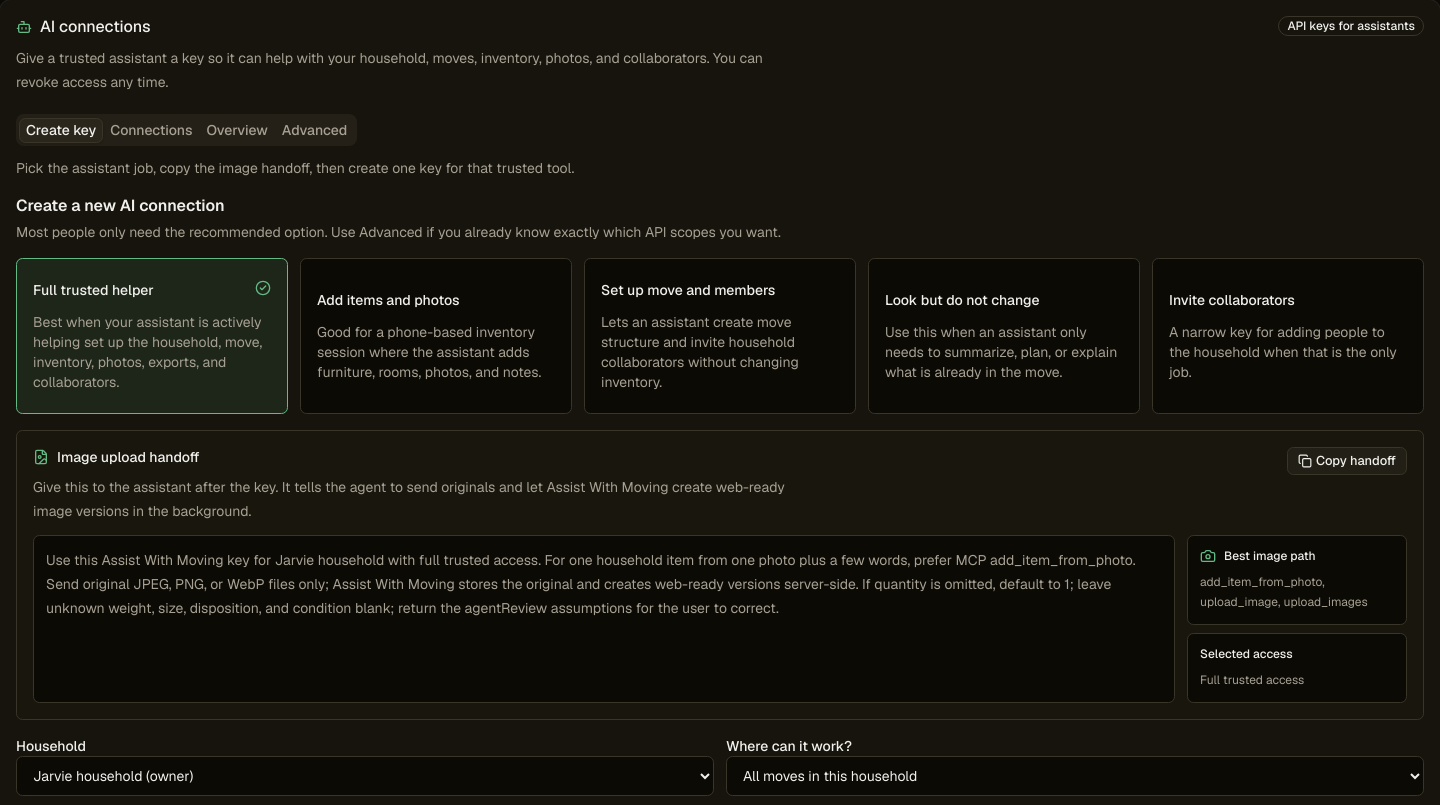
Test: ApiKeyManager task tabs › opens on key creation and separates connections, overview, and advanced settings
The width and height of the screenshot is (1440, 805).
Expected: the text "Pick the assistant job, copy the image handoff, then create one key for that trusted tool." is shown, [16,159,574,177]
Expected: the heading "Create a new AI connection" is shown, [16,195,225,216]
What coordinates should you click on to do the following:
click the tab "Connections"
I would click on:
 (151, 130)
Its box is [103,118,200,142].
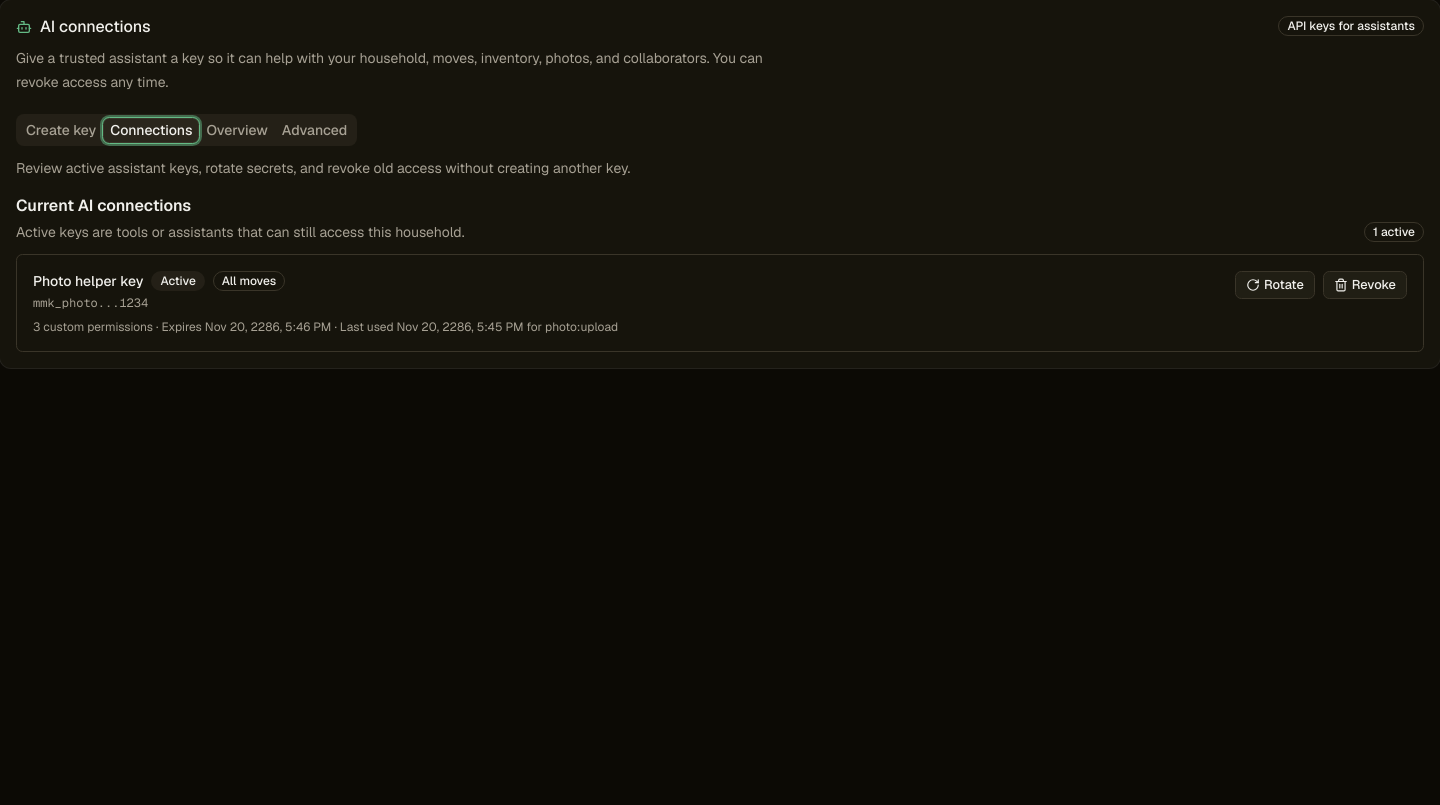
Now the text "Review active assistant keys, rotate secrets, and revoke old access without creating another key." is shown, box [16,159,630,177]
Now the heading "Current AI connections" is shown, box [16,195,191,216]
Now the text "Photo helper key" is shown, box [33,271,143,291]
What coordinates should you click on to do the following:
click the tab "Overview"
I would click on:
 (237, 130)
Its box is [200,118,275,142].
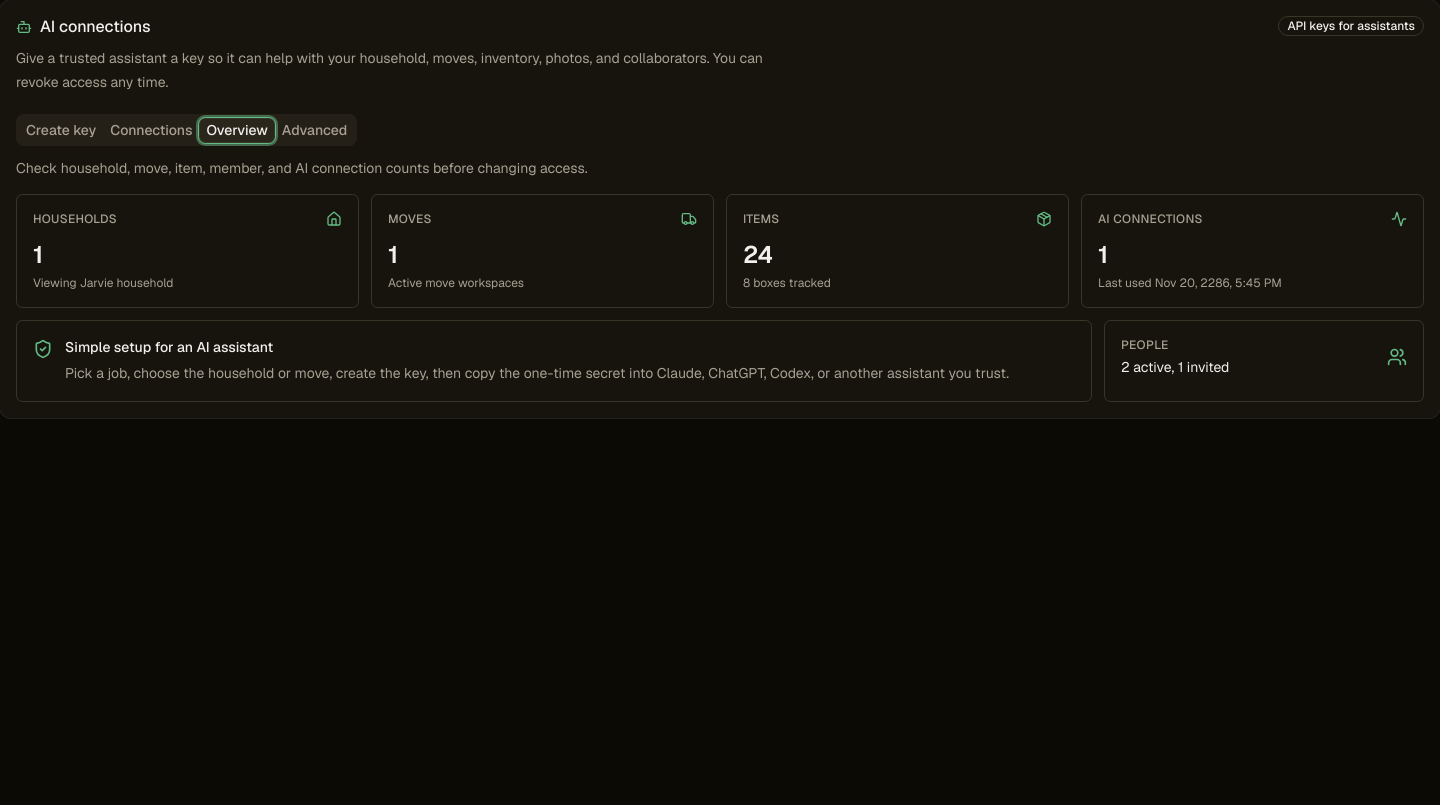
Now the text "Check household, move, item, member, and AI connection counts before changing access." is shown, box [16,159,588,177]
Now the heading "Simple setup for an AI assistant" is shown, box [65,338,273,356]
Now the text "Households" is shown, box [33,211,117,227]
What coordinates should you click on to do the following:
click the tab "Advanced"
I would click on:
 (314, 130)
Its box is [275,118,354,142].
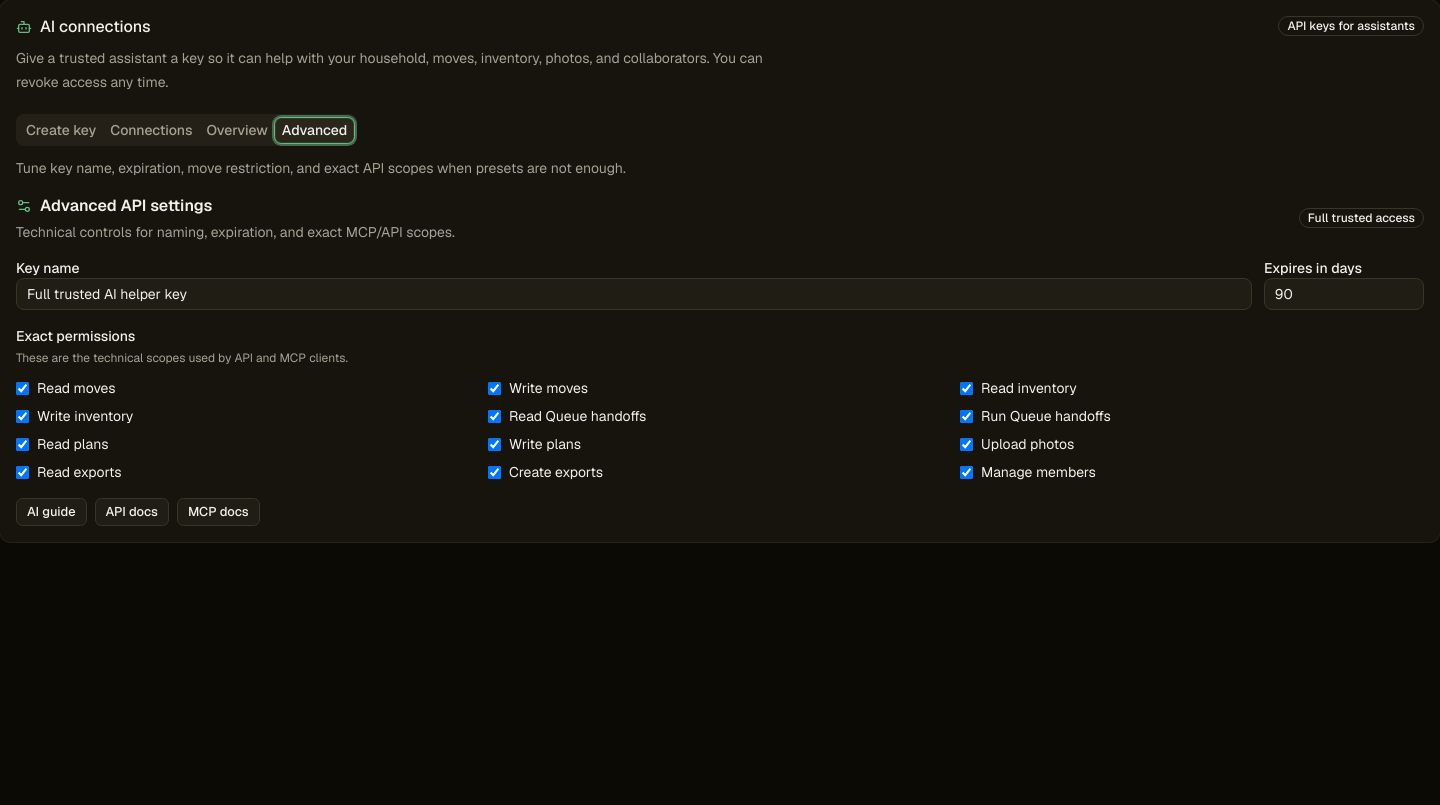
Now the text "Tune key name, expiration, move restriction, and exact API scopes when presets are not enough." is shown, box [16,159,626,177]
Now the heading "Advanced API settings" is shown, box [16,195,212,216]
Now the text "Exact permissions" is shown, box [16,327,135,345]
